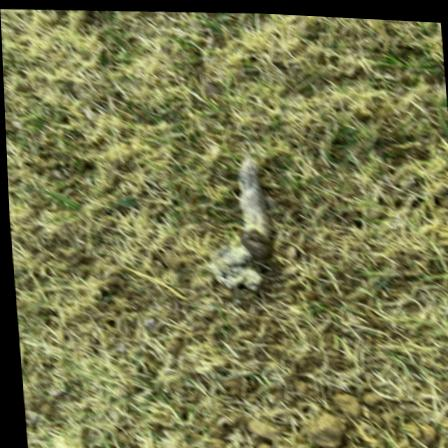dog-poop: (198, 148, 283, 293)
